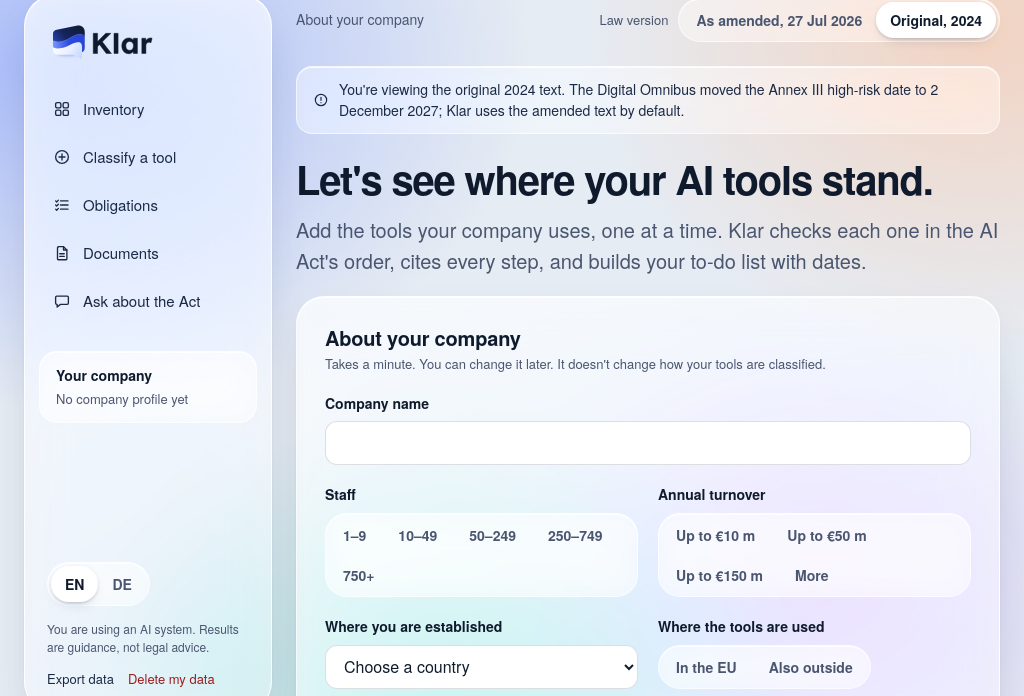
Scenario: Welcome, the size line under the original 2024 text › keeps the SME line, which reads the same in both texts
This screenshot has width=1024, height=696.
Expected: the heading "Let's see where your AI tools stand." is shown, [296, 154, 1000, 204]
Click the button "10–49".
click(418, 535)  # box [384, 517, 451, 553]
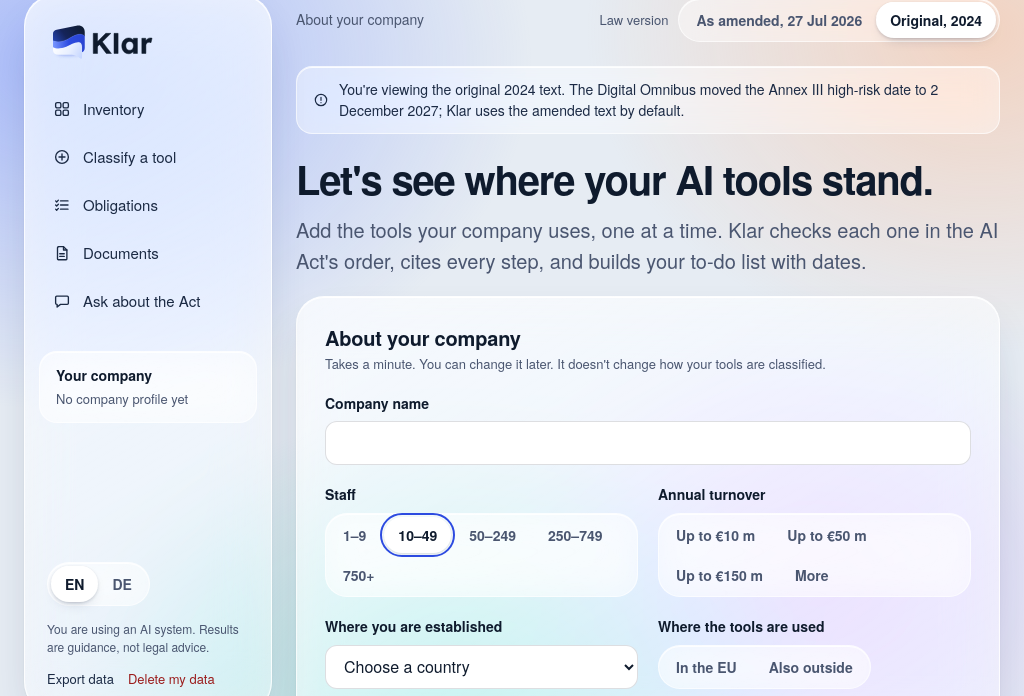
Click the button "Up to €10 m".
click(716, 535)  # box [662, 517, 769, 553]
(page scrolled)
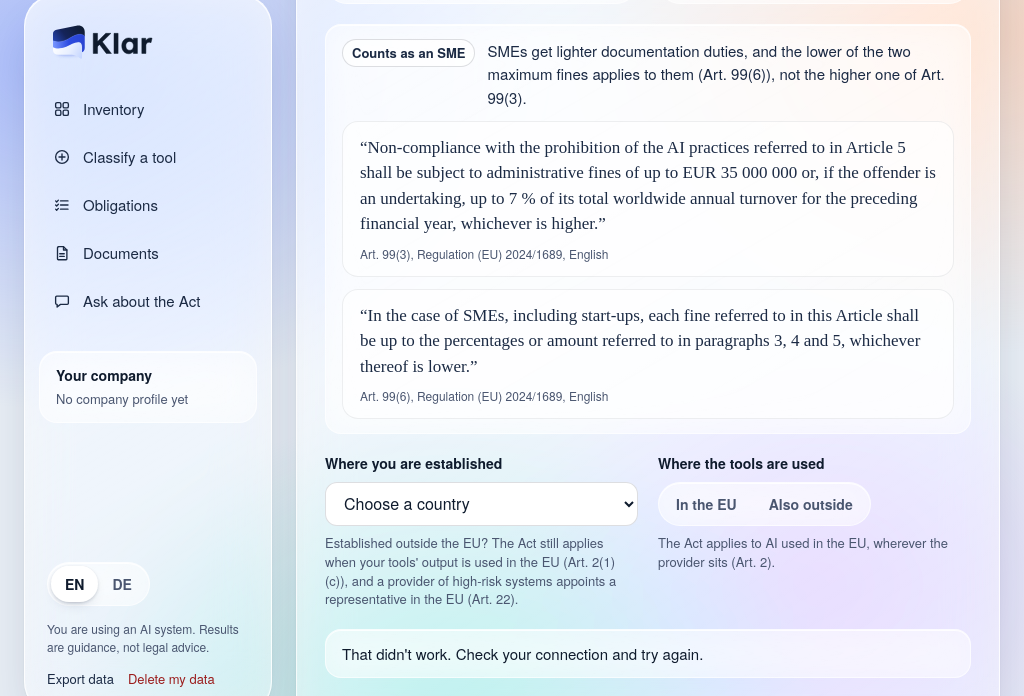
Now the text "Counts as an SME" is shown, box [342, 39, 475, 66]
Now the text "Art. 99(6), Regulation (EU) 2024/1689, English" is shown, box [360, 387, 608, 404]
